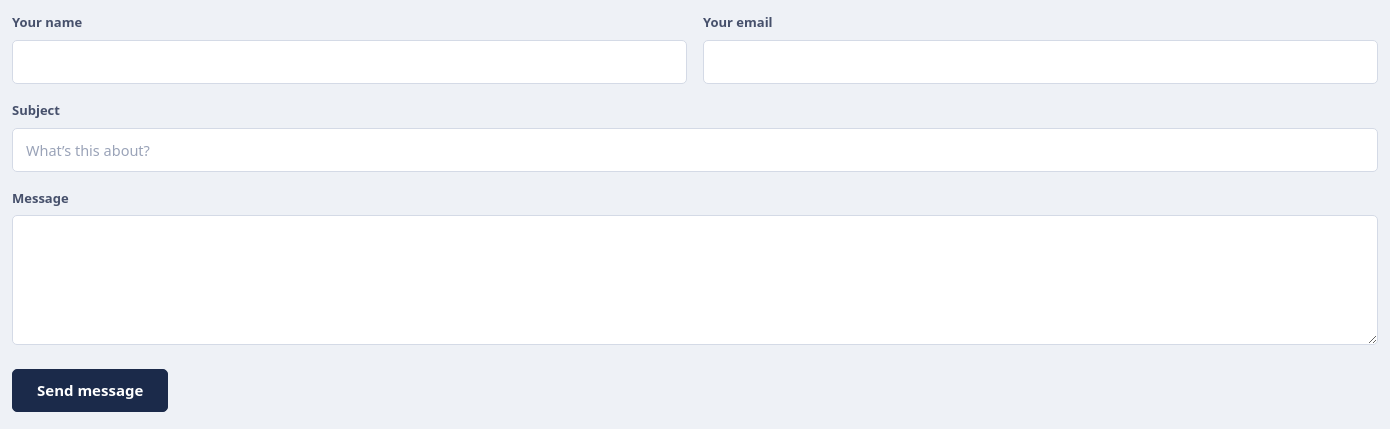
Test: ContactForm › submits the form and shows a success message
Step 1. Type "Jane Doe" into the field labelled "Your name" → (350, 62), box [12, 40, 687, 84]
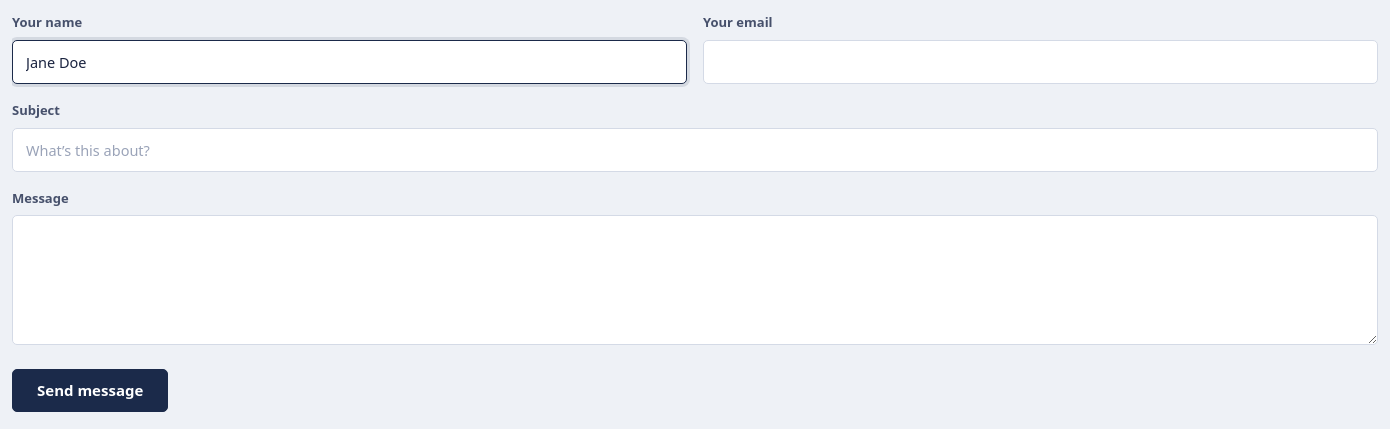
Step 2. Type "jane@example.com" into the field labelled "Your email" → (1040, 62), box [703, 40, 1378, 84]
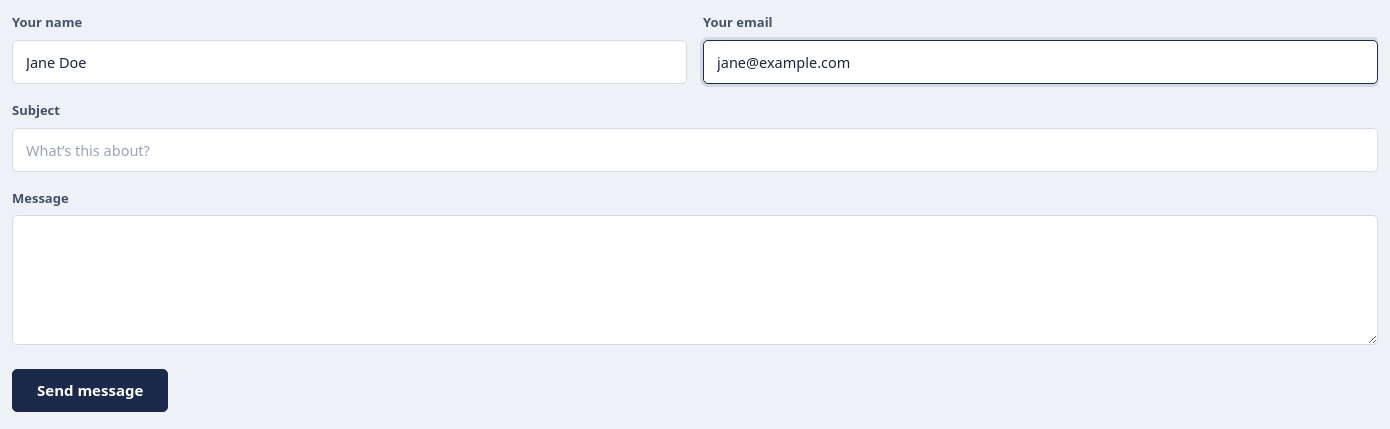
Step 3. Type "Hello board" into the text box labelled "Message" → (695, 280), box [12, 215, 1378, 345]
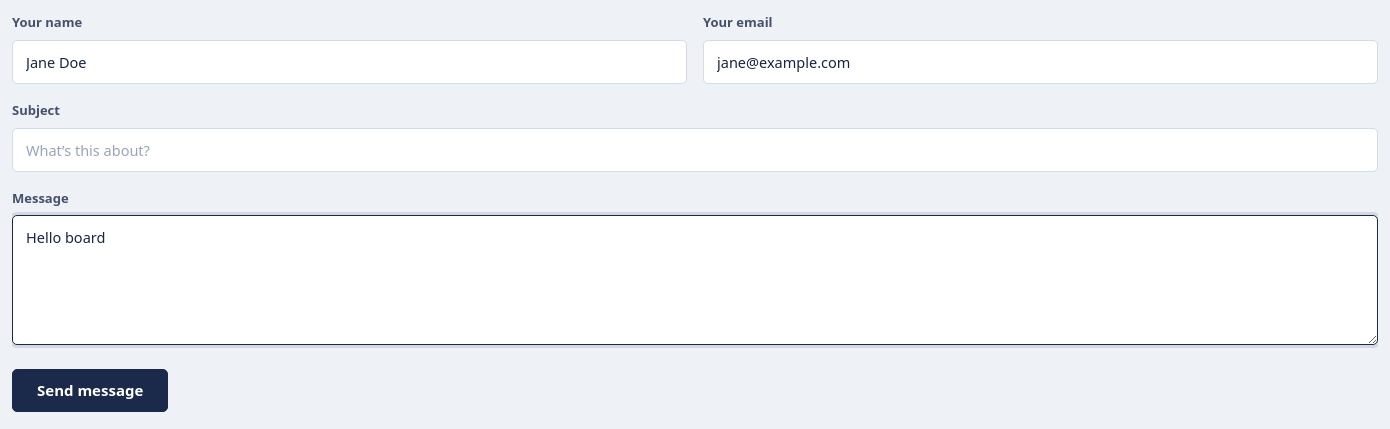
Step 4. Click the button "Send message" → (90, 390), box [12, 369, 168, 412]
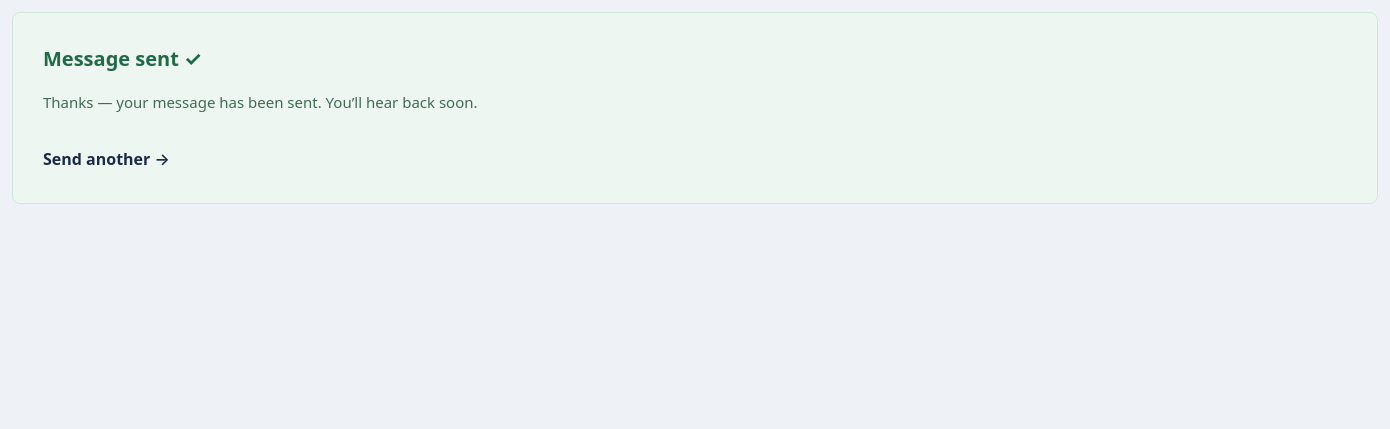
Expected: the text "Thanks — your message has been sent. You’ll hear back soon." is shown, [43, 92, 478, 112]
